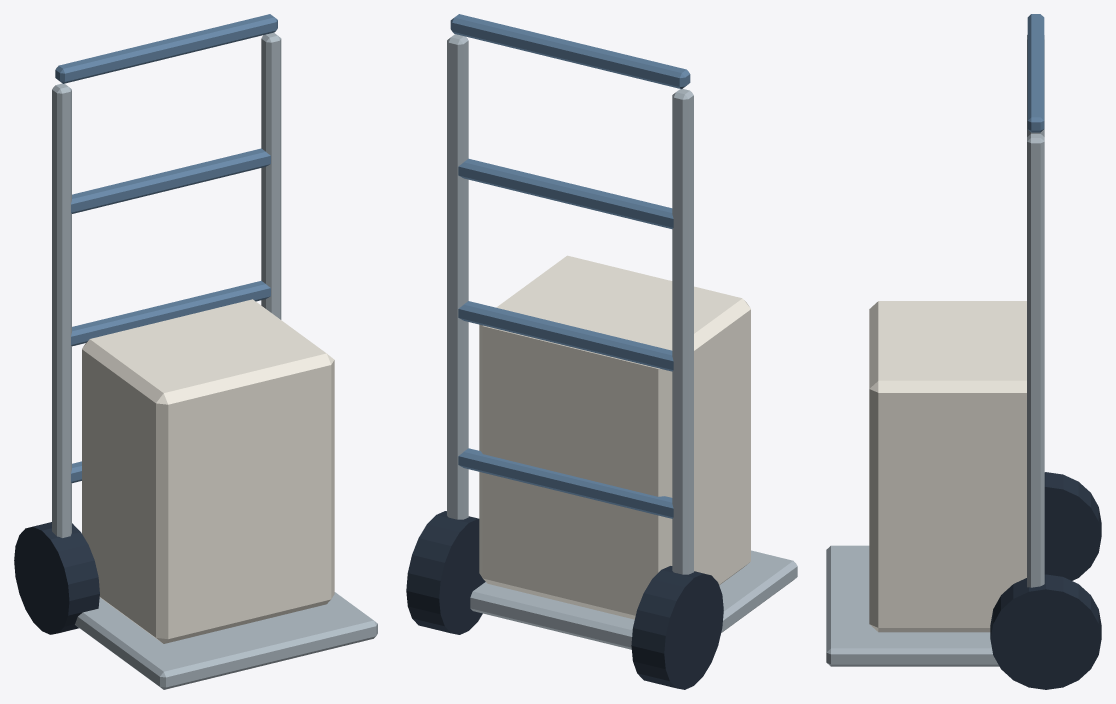
The model's file is logistics_09.glb.
The picture shows the model from 3 angles, left to right: view 1: azimuth 30°, elevation 25°; view 2: azimuth 150°, elevation 25°; view 3: azimuth 270°, elevation 25°; orthographic projection. The views are drawn at different scales.
Parts seen in each view (by area): view 1: Cargo, HandTruckFrame (×2), LoadFoot, Crossbar (×3), Wheel; view 2: Cargo, HandTruckFrame (×2), Crossbar (×4), Wheel (×2), LoadFoot; view 3: Cargo, Wheel (×2), LoadFoot, HandTruckFrame, Crossbar.
Boxes of the visible parts, x1,y1,x2,y2 form: Cargo: (82,299,334,643); HandTruckFrame (×2): (52,32,281,537); LoadFoot: (75,592,377,689); Crossbar (×3): (55,14,277,346); Wheel: (14,522,99,634); Cargo: (479,255,750,619); HandTruckFrame (×2): (447,34,693,574); Crossbar (×4): (450,14,690,518); Wheel (×2): (406,511,723,689); LoadFoot: (470,550,797,649); Cargo: (869,301,1026,632); Wheel (×2): (990,472,1101,689); LoadFoot: (826,545,999,666); HandTruckFrame: (1027,134,1044,587); Crossbar: (1027,14,1044,132).
Size of the model in its own units: 0.55 by 1.24 by 0.545.
